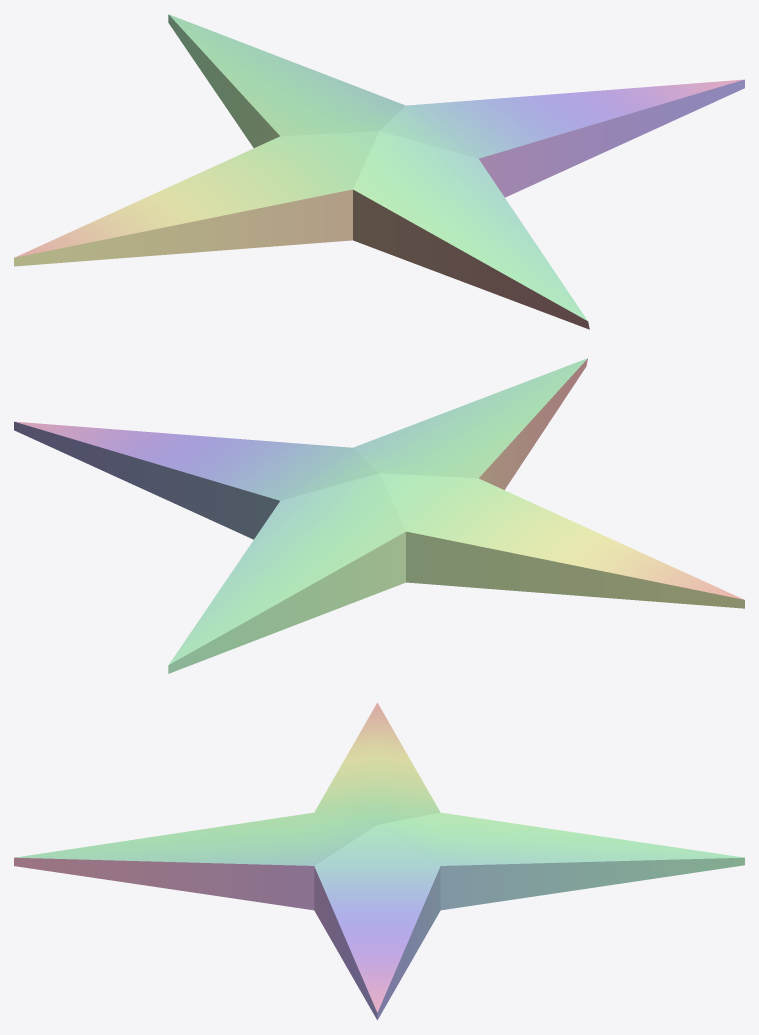
File: 4Star.fbx
The picture shows the model from 3 angles, top to bottom: view 1: azimuth 30°, elevation 25°; view 2: azimuth 150°, elevation 25°; view 3: azimuth 270°, elevation 25°; orthographic projection. The views are drawn at different scales.
Parts seen in each view (by area): view 1: 4Star; view 2: 4Star; view 3: 4Star.
Part boxes in pixels (box(x1,y1,x2,y2)): 4Star: box(14, 14, 744, 329); 4Star: box(14, 358, 744, 673); 4Star: box(14, 702, 744, 1020).
Size of the model in its own units: 1.93 by 1.92 by 0.2115.
Materials: 1 (1 with a texture image).
